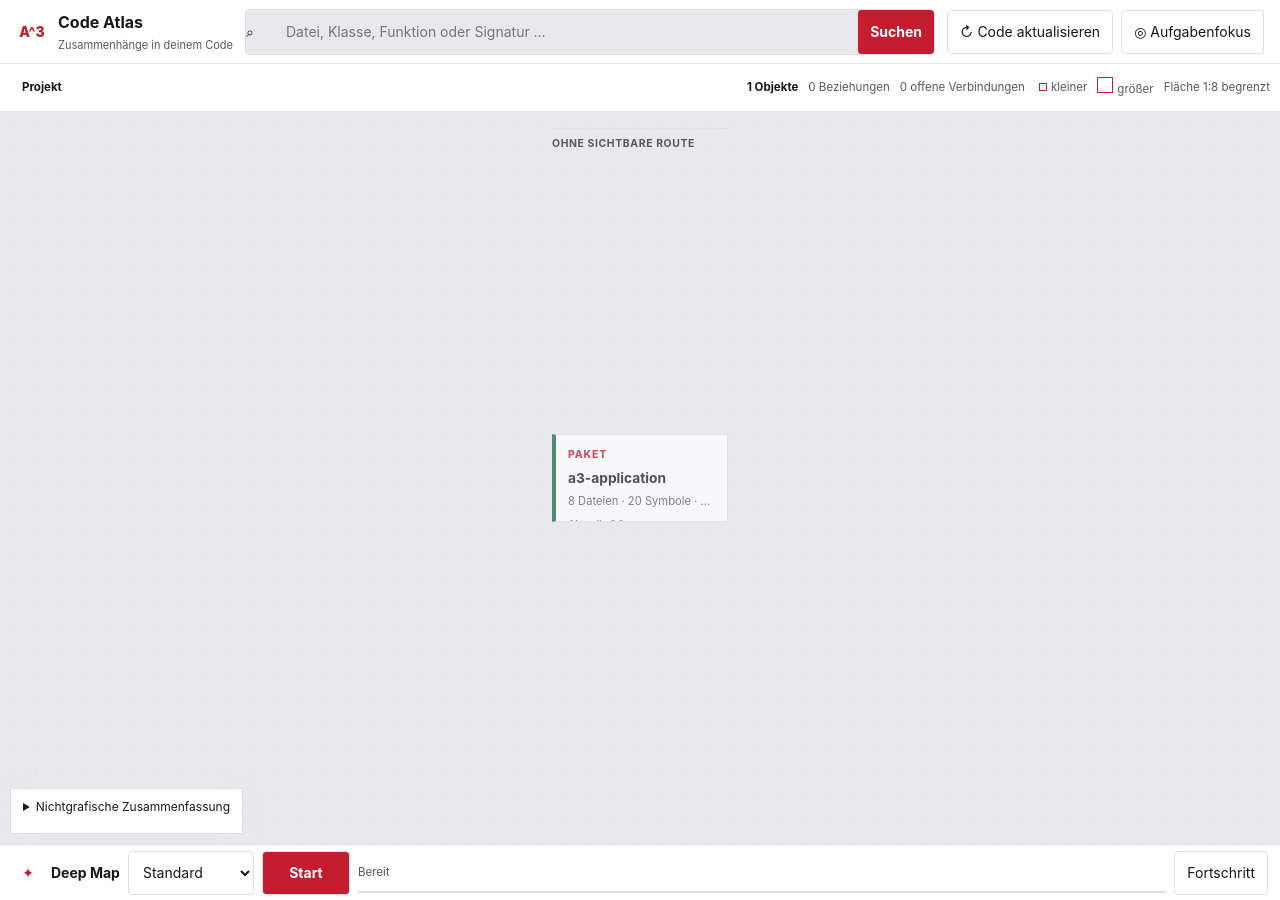
U12 progressive Code Atlas workspace › ignores Escape from another route and restores focus when its own Inspector closes
Click the button with aria-label "a3-application, Paket" at (640, 478), box [552, 434, 728, 522]
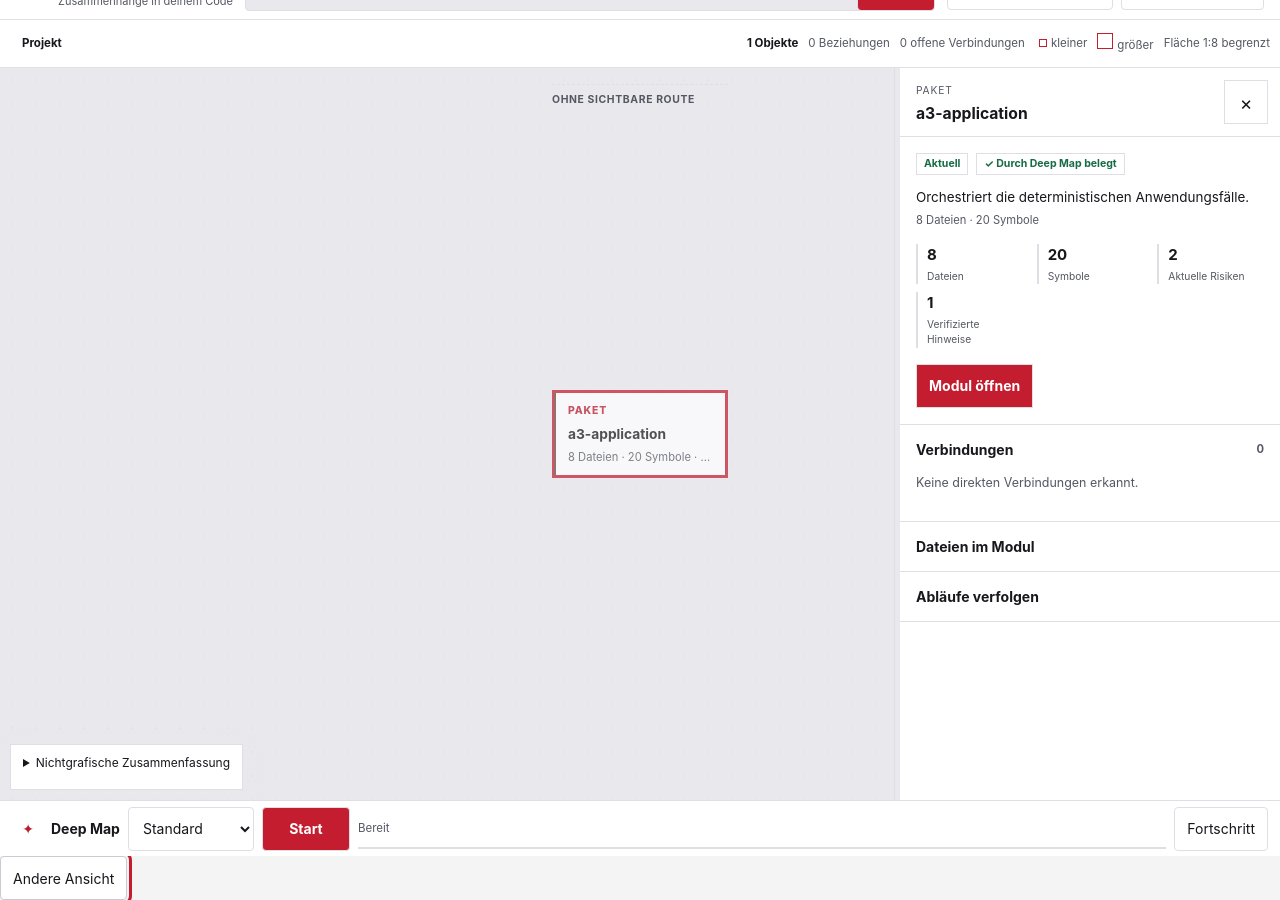
Press Escape in the button "Andere Ansicht", box [0, 856, 127, 899]
Press Escape
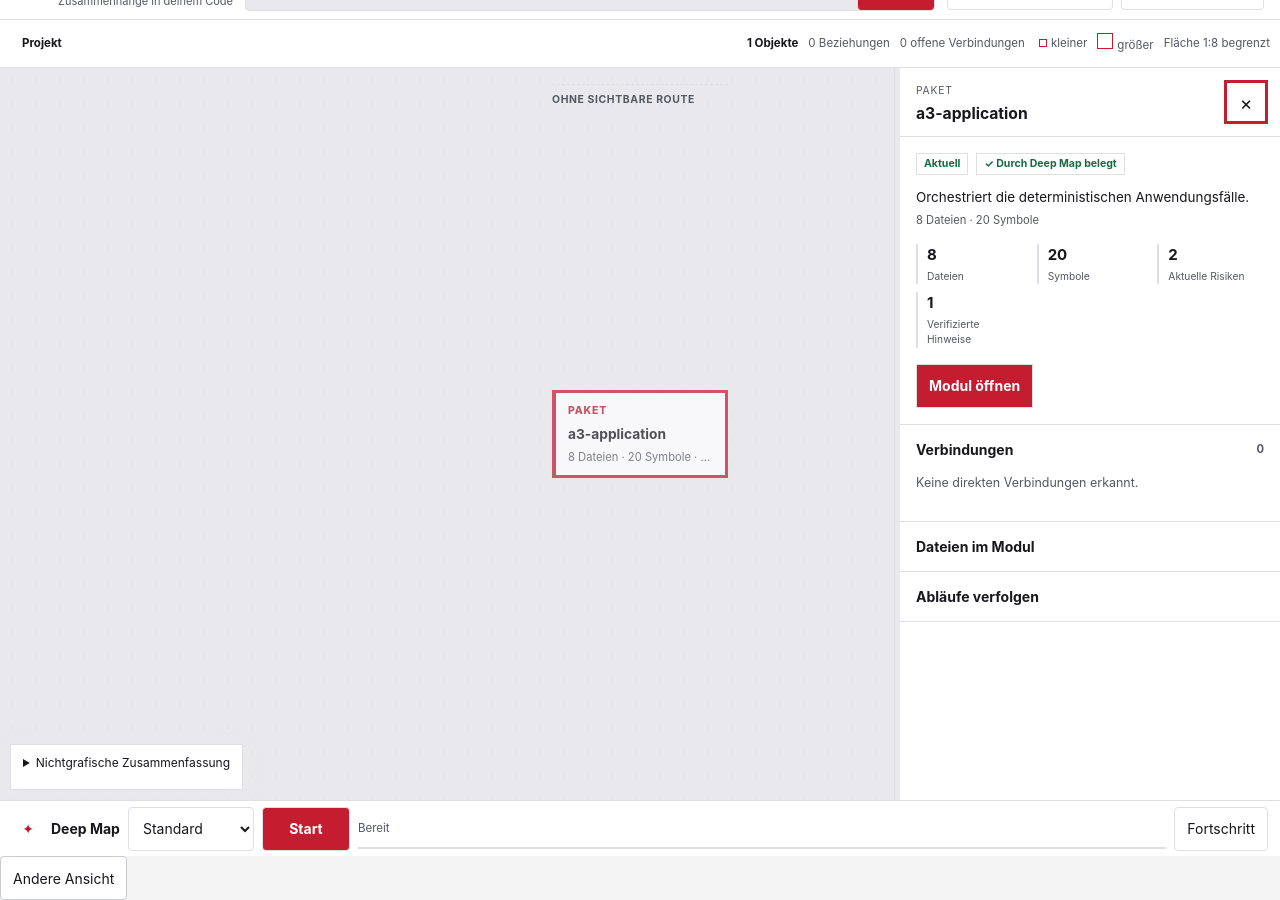
expect the button "×" is shown: met
Press Escape in the button "×", box [1224, 80, 1268, 124]
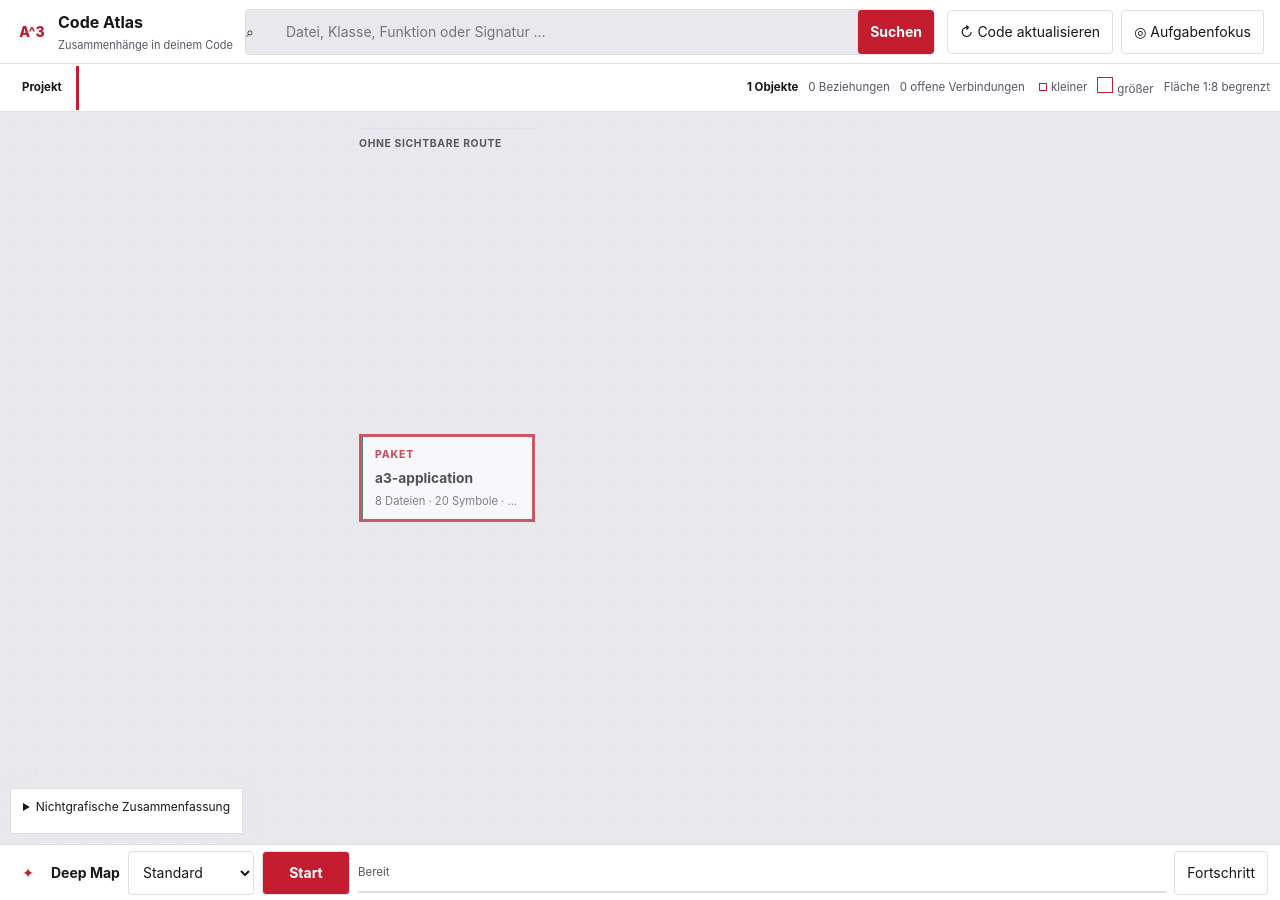
expect the button "Code Inspector" is gone: met
